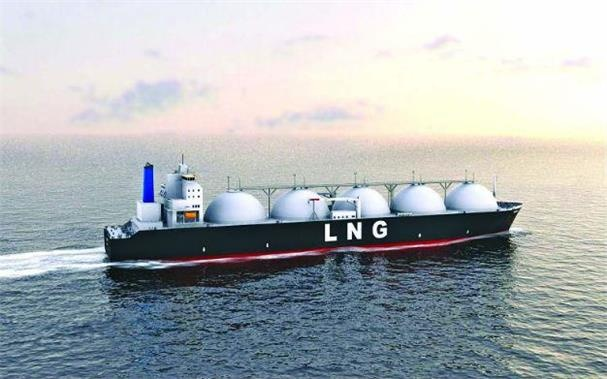Cargoship: (99, 152, 526, 265)
